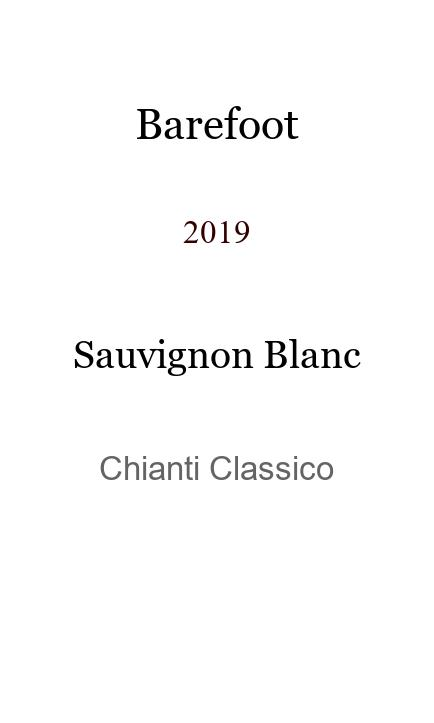brand: (135, 99, 299, 132)
region: (99, 450, 334, 474)
variety: (73, 332, 361, 369)
vintage: (183, 213, 251, 235)
